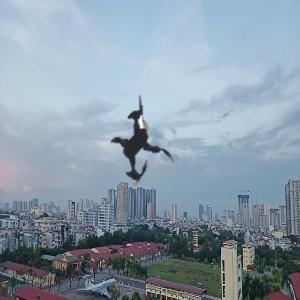drone: (71, 70, 215, 214)
